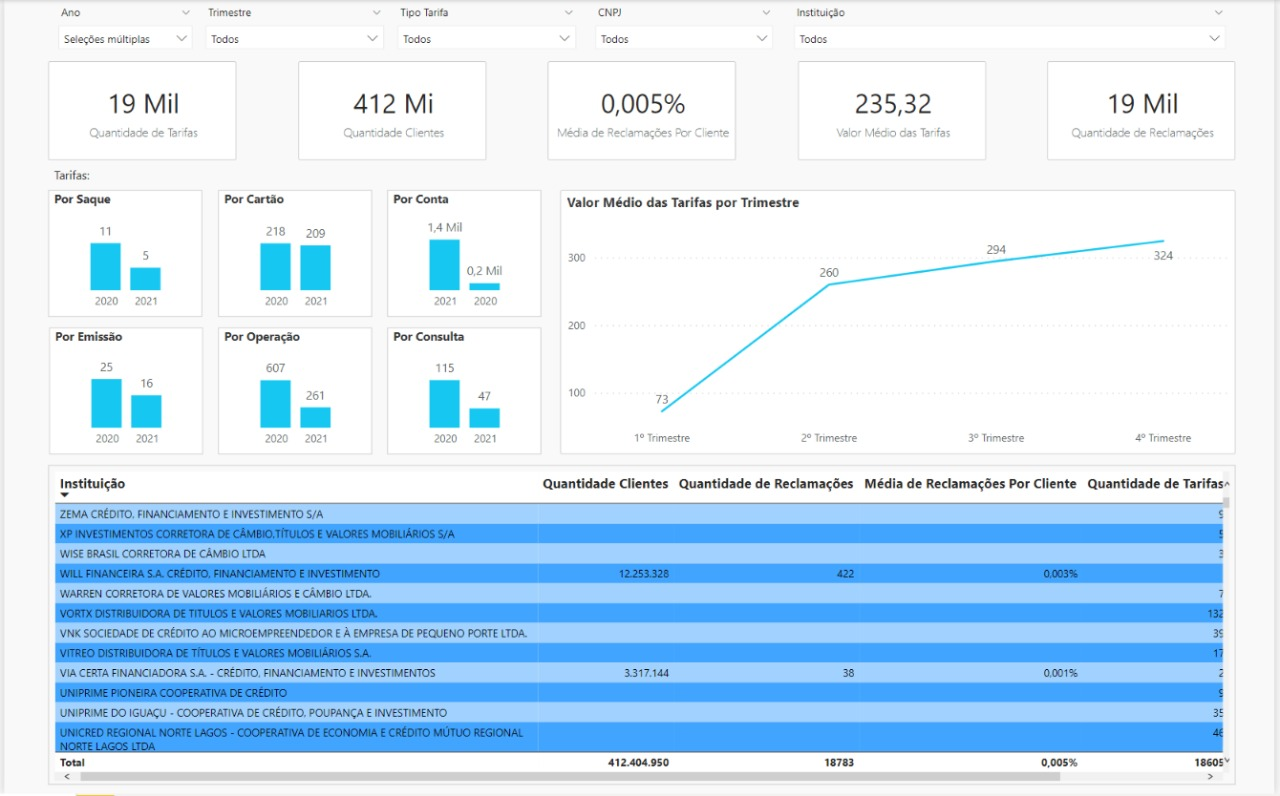

The page's visual inventory and layout, read from the dashboard file:
{"tool":"powerbi","page":{"name":"Página 1","canvas":[1280,800],"ordinal":0},"visuals":[{"type":"slicer","fields":{"Values":["Dim Calendario.ano"]},"box":[44,0,155.9,69.9],"z":1},{"type":"slicer","fields":{"Values":["Dim Calendario.trimestre descr longa"]},"box":[192.6,0,200,70],"z":2},{"type":"slicer","fields":{"Values":["Dim Instituições.nome_instituicao"]},"box":[785.4,0,455.6,69.9],"z":3},{"type":"slicer","fields":{"Values":["Dim Instituições.CNPJ"]},"box":[585.5,0,199.8,70],"z":4},{"type":"slicer","fields":{"Values":["Fato Tarifas.tipo_tarifa"]},"box":[385.7,0,200,70],"z":5},{"type":"card","fields":{"Values":["Medidas.Quantidade de Reclamações"]},"box":[1051.2,62,189.9,99.9],"z":6,"group":"g1"},{"type":"card","fields":{"Values":["Medidas.Valor Médio das Tarifas"]},"box":[799.4,62,189.7,100.1],"z":7,"group":"g1"},{"type":"card","fields":{"Values":["Medidas.Quantidade de Tarifas"]},"box":[44,62,189.7,100.1],"z":8,"group":"g1"},{"type":"card","fields":{"Values":["Medidas.Quantidade Clientes"]},"box":[295.8,62,189.7,100.1],"z":9,"group":"g1"},{"type":"lineChart","title":"Valor Médio das Tarifas por Trimestre","fields":{"Category":["Dim Calendario.trimestre descr longa"],"Y":["Medidas.Valor Médio das Tarifas"]},"box":[560.6,191.9,680.5,266.8],"z":10},{"type":"tableEx","fields":{"Values":["Dim Instituições.nome_instituicao","Medidas.Quantidade Clientes","Medidas.Quantidade de Reclamações","Medidas.Média de Reclamações Por Cliente","Medidas.Quantidade de Tarifas","Medidas.Valor Médio das Tarifas"]},"box":[44.3,468.8,1196.6,322.5],"z":11},{"type":"card","fields":{"Values":["Medidas.Média de Reclamações Por Cliente"]},"box":[547.6,62,189.7,100.1],"z":12,"group":"g1"},{"type":"group","id":"g1","title":"Grupo 1","box":[44,62,1197.1,100.1],"z":13},{"type":"clusteredColumnChart","title":"Por Saque","fields":{"Category":["Dim Calendario.ano"],"Y":["Medidas.por saque"]},"box":[44.3,191.6,155,128],"z":14},{"type":"clusteredColumnChart","title":"Por Cartão","fields":{"Category":["Dim Calendario.ano"],"Y":["Medidas.por cartao"]},"box":[215.8,191.9,154.9,127.9],"z":15},{"type":"clusteredColumnChart","title":"Por Conta","fields":{"Category":["Dim Calendario.ano"],"Y":["Medidas.por conta"]},"box":[385.7,191.9,154.9,127.9],"z":16},{"type":"clusteredColumnChart","title":"Por Emissão","fields":{"Category":["Dim Calendario.ano"],"Y":["Medidas.por emissao"]},"box":[45,329.7,154.9,127.9],"z":17},{"type":"clusteredColumnChart","title":"Por Operação","fields":{"Category":["Dim Calendario.ano"],"Y":["Medidas.por operacao"]},"box":[215.8,329.7,154.9,127.9],"z":18},{"type":"clusteredColumnChart","title":"Por Consulta","fields":{"Category":["Dim Calendario.ano"],"Y":["Medidas.por consulta"]},"box":[385.7,329.7,154.9,127.9],"z":19},{"type":"textbox","box":[45,161.9,115.9,28],"z":20}]}

Visuals, with their boxes in screenshot pixels (x1, y1, x2, y2), scaled from the page's 1280x800 canvas onto the 1280x796 screenshot:
slicer - Dim Calendario.ano: <bbox>44, 0, 200, 70</bbox>
slicer - Dim Calendario.trimestre descr longa: <bbox>193, 0, 393, 70</bbox>
slicer - Dim Instituições.nome_instituicao: <bbox>785, 0, 1241, 70</bbox>
slicer - Dim Instituições.CNPJ: <bbox>586, 0, 785, 70</bbox>
slicer - Fato Tarifas.tipo_tarifa: <bbox>386, 0, 586, 70</bbox>
card - Medidas.Quantidade de Reclamações: <bbox>1051, 62, 1241, 161</bbox>
card - Medidas.Valor Médio das Tarifas: <bbox>799, 62, 989, 161</bbox>
card - Medidas.Quantidade de Tarifas: <bbox>44, 62, 234, 161</bbox>
card - Medidas.Quantidade Clientes: <bbox>296, 62, 486, 161</bbox>
"Valor Médio das Tarifas por Trimestre" lineChart: <bbox>561, 191, 1241, 456</bbox>
tableEx - Dim Instituições.nome_instituicao x Medidas.Quantidade Clientes: <bbox>44, 466, 1241, 787</bbox>
card - Medidas.Média de Reclamações Por Cliente: <bbox>548, 62, 737, 161</bbox>
"Grupo 1" group: <bbox>44, 62, 1241, 161</bbox>
"Por Saque" clusteredColumnChart: <bbox>44, 191, 199, 318</bbox>
"Por Cartão" clusteredColumnChart: <bbox>216, 191, 371, 318</bbox>
"Por Conta" clusteredColumnChart: <bbox>386, 191, 541, 318</bbox>
"Por Emissão" clusteredColumnChart: <bbox>45, 328, 200, 455</bbox>
"Por Operação" clusteredColumnChart: <bbox>216, 328, 371, 455</bbox>
"Por Consulta" clusteredColumnChart: <bbox>386, 328, 541, 455</bbox>
textbox: <bbox>45, 161, 161, 189</bbox>
